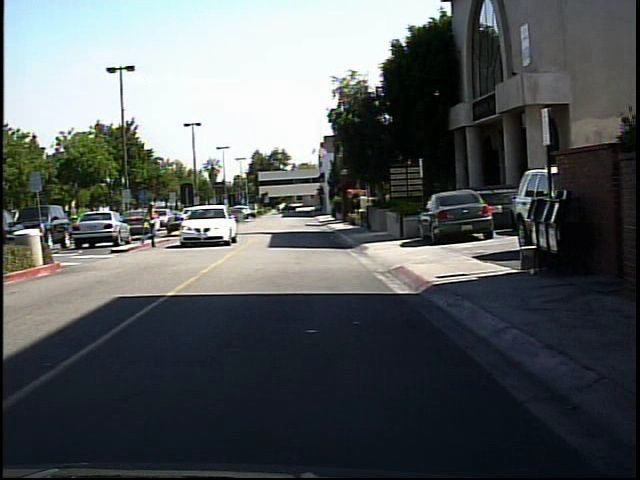person: (141, 196, 165, 249)
